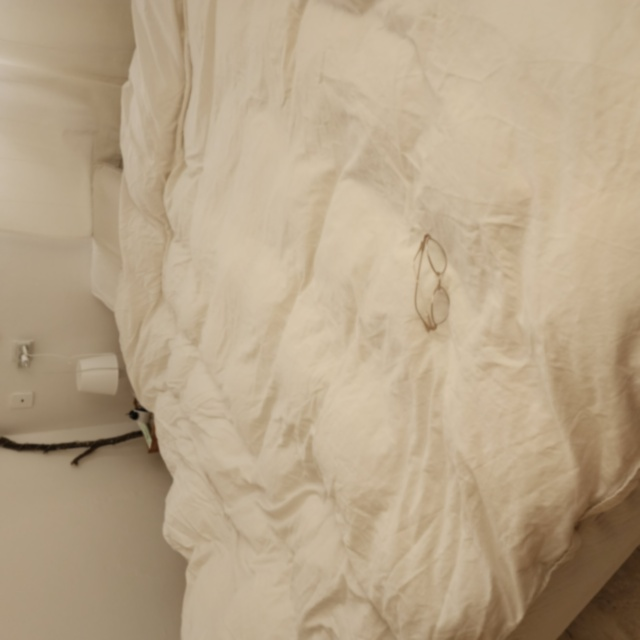glasses: (408, 229, 454, 337)
